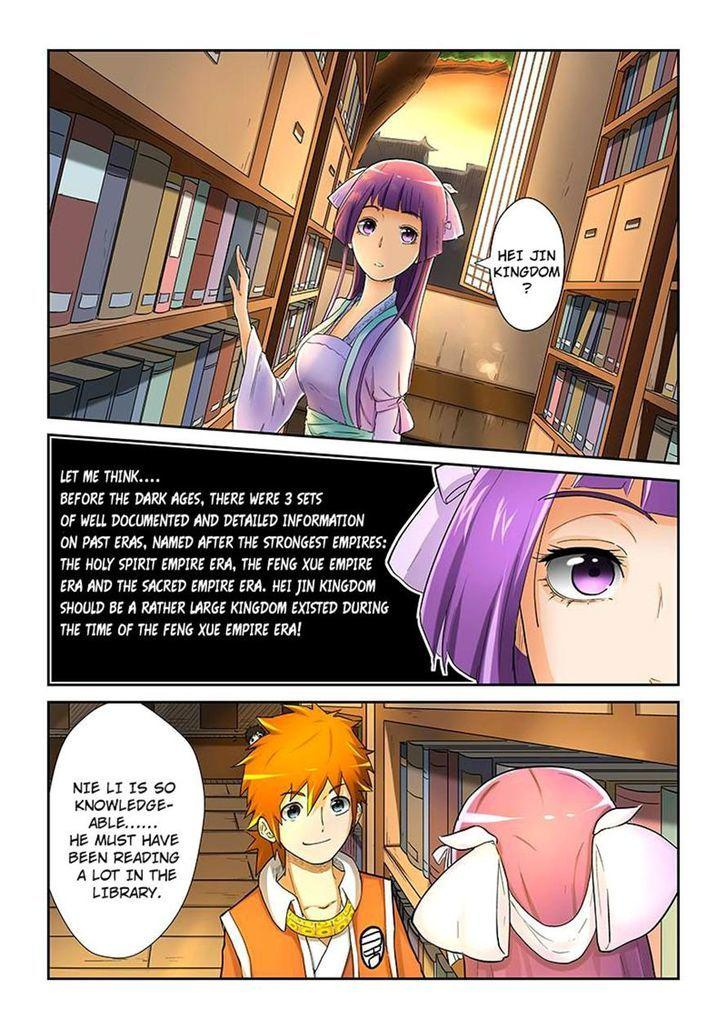Bubble: (45, 698, 206, 960), (488, 196, 567, 333)
